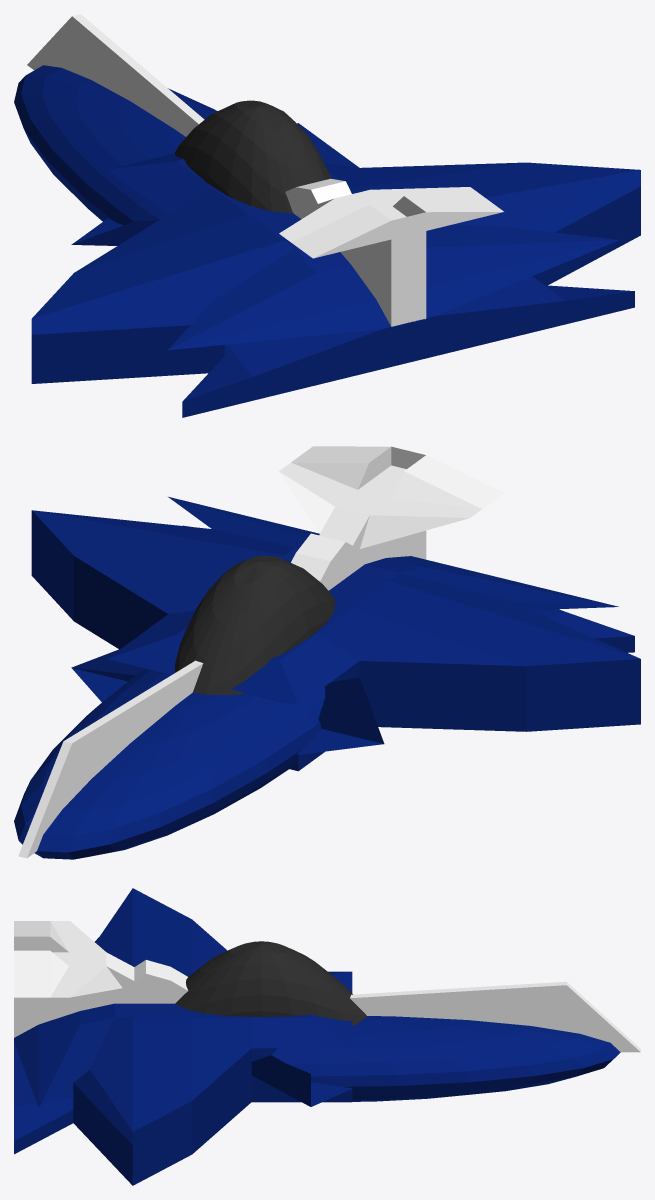
Rendered from Blue_Ship.fbx.
3 renders of one model, top to bottom at view 1: azimuth 30°, elevation 25°; view 2: azimuth 150°, elevation 25°; view 3: azimuth 270°, elevation 25°, orthographic. The views are drawn at different scales.
Visible parts, largest first — view 1: Blue_Ship:Layer4, Blue_Ship:Layer5, Blue_Ship:Layer1, Blue_Ship:Layer2, Blue_Ship:Layer3; view 2: Blue_Ship:Layer4, Blue_Ship:Layer1, Blue_Ship:Layer5, Blue_Ship:Layer2, Blue_Ship:Layer3; view 3: Blue_Ship:Layer4, Blue_Ship:Layer1, Blue_Ship:Layer5, Blue_Ship:Layer2, Blue_Ship:Layer3.
Part boxes in pixels (left/top/right/bottom): Blue_Ship:Layer4: left=31, top=123, right=640, bottom=417; Blue_Ship:Layer5: left=279, top=178, right=503, bottom=326; Blue_Ship:Layer1: left=14, top=65, right=217, bottom=225; Blue_Ship:Layer2: left=175, top=100, right=331, bottom=213; Blue_Ship:Layer3: left=27, top=14, right=204, bottom=136; Blue_Ship:Layer4: left=31, top=496, right=640, bottom=771; Blue_Ship:Layer1: left=14, top=669, right=325, bottom=859; Blue_Ship:Layer5: left=279, top=446, right=503, bottom=590; Blue_Ship:Layer2: left=171, top=555, right=335, bottom=694; Blue_Ship:Layer3: left=18, top=660, right=203, bottom=858; Blue_Ship:Layer4: left=14, top=888, right=352, bottom=1185; Blue_Ship:Layer1: left=271, top=1016, right=620, bottom=1101; Blue_Ship:Layer5: left=14, top=921, right=188, bottom=1037; Blue_Ship:Layer2: left=175, top=941, right=366, bottom=1025; Blue_Ship:Layer3: left=350, top=981, right=640, bottom=1052.
Size of the model in its own units: 350 by 95.33 by 380.
